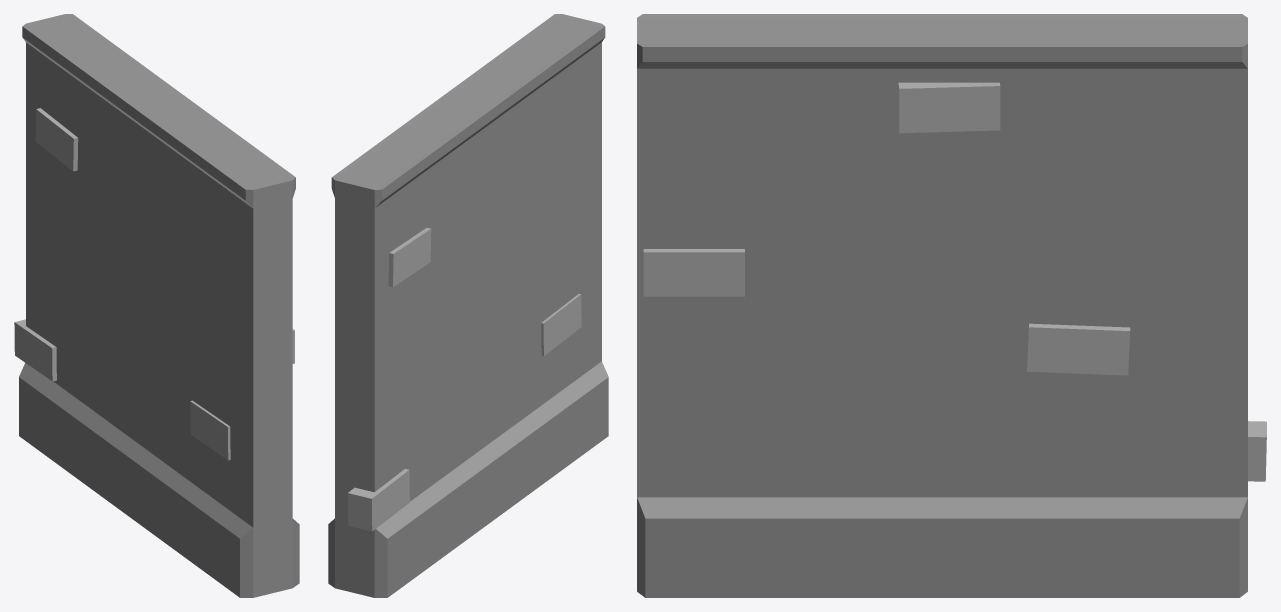
The model's file is mur1.FBX.
The picture shows the model from 3 angles, left to right: view 1: azimuth 30°, elevation 25°; view 2: azimuth 150°, elevation 25°; view 3: azimuth 270°, elevation 25°; orthographic projection. The views are drawn at different scales.
Parts seen in each view (by area): view 1: Mur003; view 2: Mur003; view 3: Mur003.
Boxes of the visible parts, x1,y1,x2,y2 form: Mur003: (14, 14, 299, 597); Mur003: (328, 14, 608, 597); Mur003: (637, 14, 1266, 597).
Bounding box in the file's own units: 15.08 × 99.03 × 103.
1 material, 1 textured.
